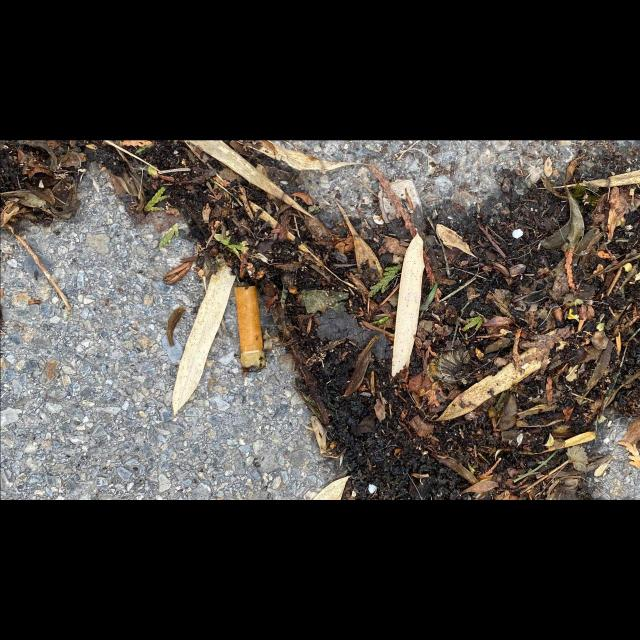cigarette: (233, 285, 266, 376)
